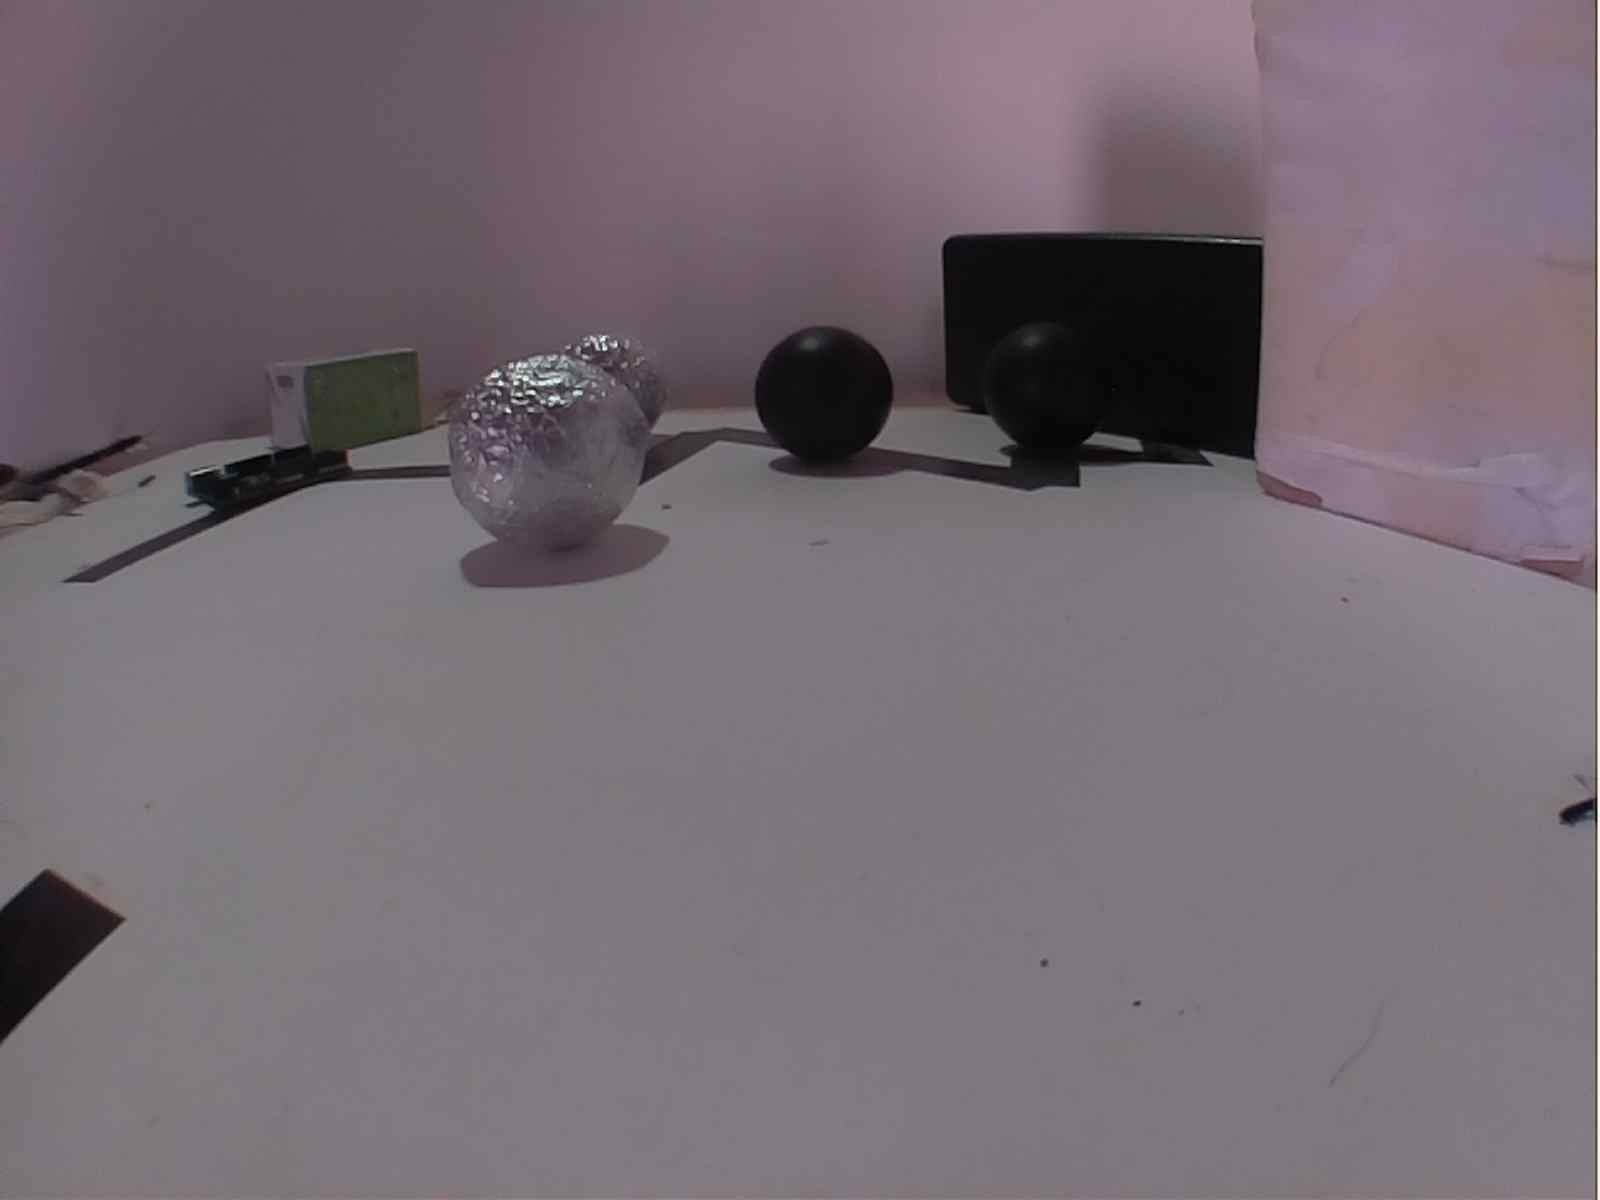bianca: (443, 349, 648, 555), (553, 325, 666, 437)
nera: (750, 319, 897, 466), (983, 321, 1112, 459)
